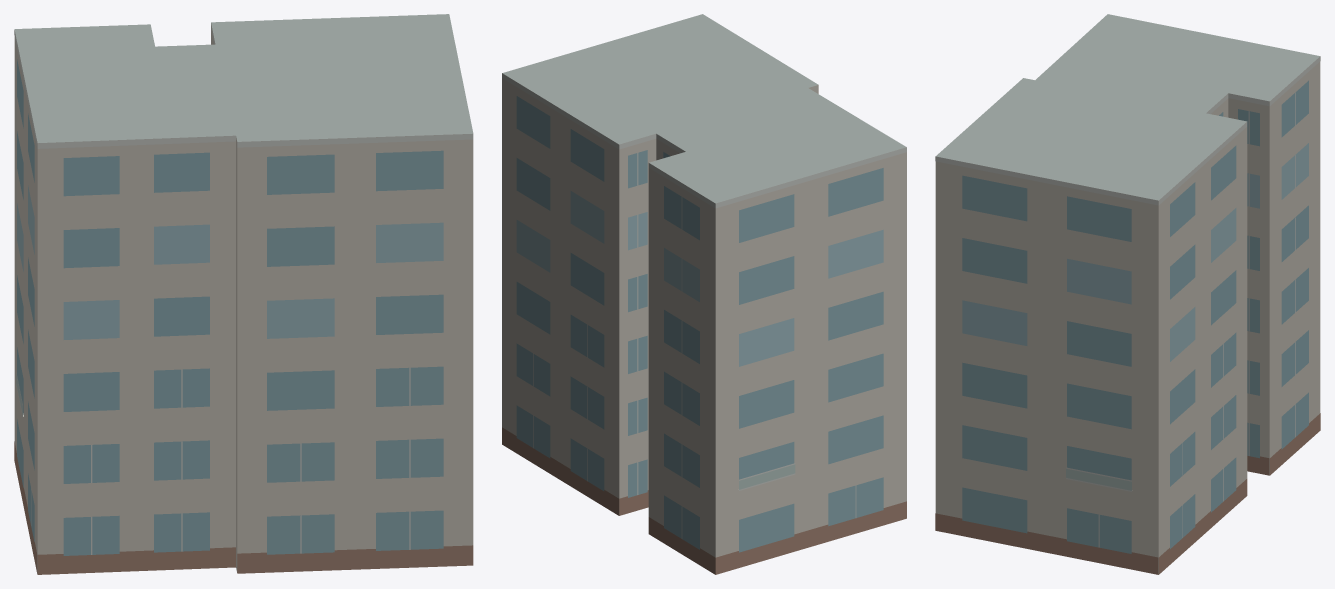
Rendered from survey-upis-32662225.glb.
3 views of the same model, side by side, from view 1: azimuth 30°, elevation 25°; view 2: azimuth 150°, elevation 25°; view 3: azimuth 270°, elevation 25° (orthographic). The views are drawn at different scales.
Parts seen in each view (by area): view 1: survey-upis-32662225.tmp; view 2: survey-upis-32662225.tmp; view 3: survey-upis-32662225.tmp.
Part boxes in pixels (x1,y1,x2,y2): survey-upis-32662225.tmp: (14,14,473,574); survey-upis-32662225.tmp: (502,14,906,574); survey-upis-32662225.tmp: (935,14,1320,574).
Bounding box in the file's own units: 19.58 × 18.3 × 17.07.
